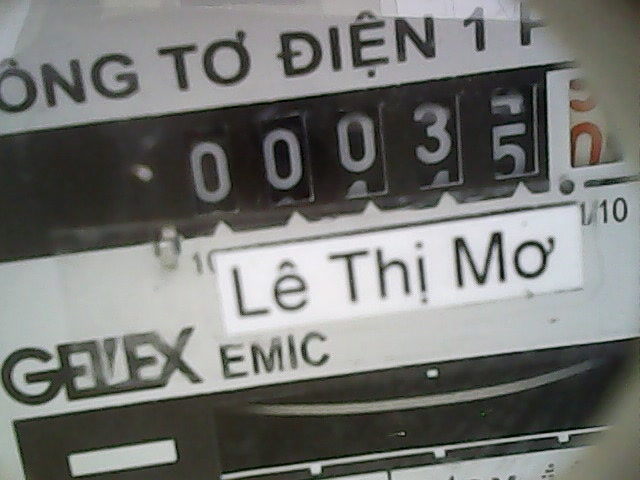phy_plate: (158, 58, 640, 214)
